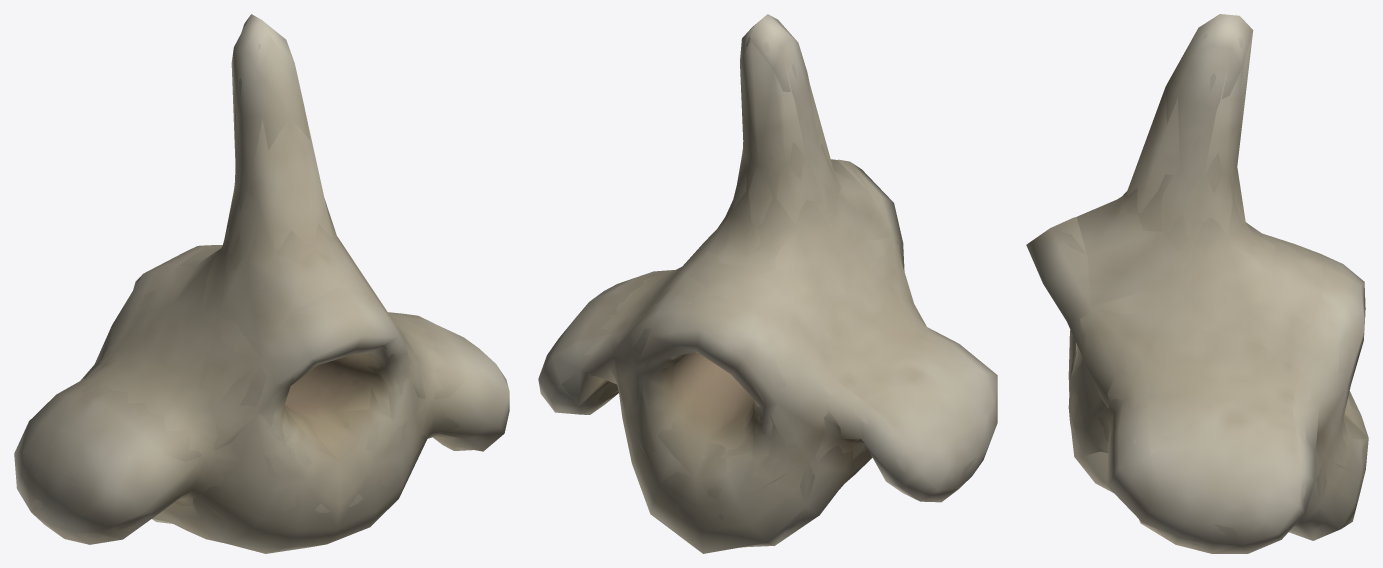
File: vertebrae thoracicae 08.fbx
3 renders of one model, left to right at view 1: azimuth 30°, elevation 25°; view 2: azimuth 150°, elevation 25°; view 3: azimuth 270°, elevation 25°, orthographic. The views are drawn at different scales.
Visible parts, largest first — view 1: vertebrae thoracicae 08, vertebrae thoracicae 08 low, vertebrae thoracicae 08 high; view 2: vertebrae thoracicae 08, vertebrae thoracicae 08 low, vertebrae thoracicae 08 high; view 3: vertebrae thoracicae 08, vertebrae thoracicae 08 low, vertebrae thoracicae 08 high.
Part boxes in pixels (x1,y1,x2,y2): vertebrae thoracicae 08: (14,14,509,553); vertebrae thoracicae 08 low: (31,18,508,548); vertebrae thoracicae 08 high: (24,39,493,548); vertebrae thoracicae 08: (538,14,997,553); vertebrae thoracicae 08 low: (539,15,996,543); vertebrae thoracicae 08 high: (549,27,973,547); vertebrae thoracicae 08: (1026,14,1368,553); vertebrae thoracicae 08 low: (1028,16,1368,553); vertebrae thoracicae 08 high: (1071,34,1360,545).
Bounding box in the file's own units: 1.37 × 1.59 × 0.9589.
1 material, 1 textured.
